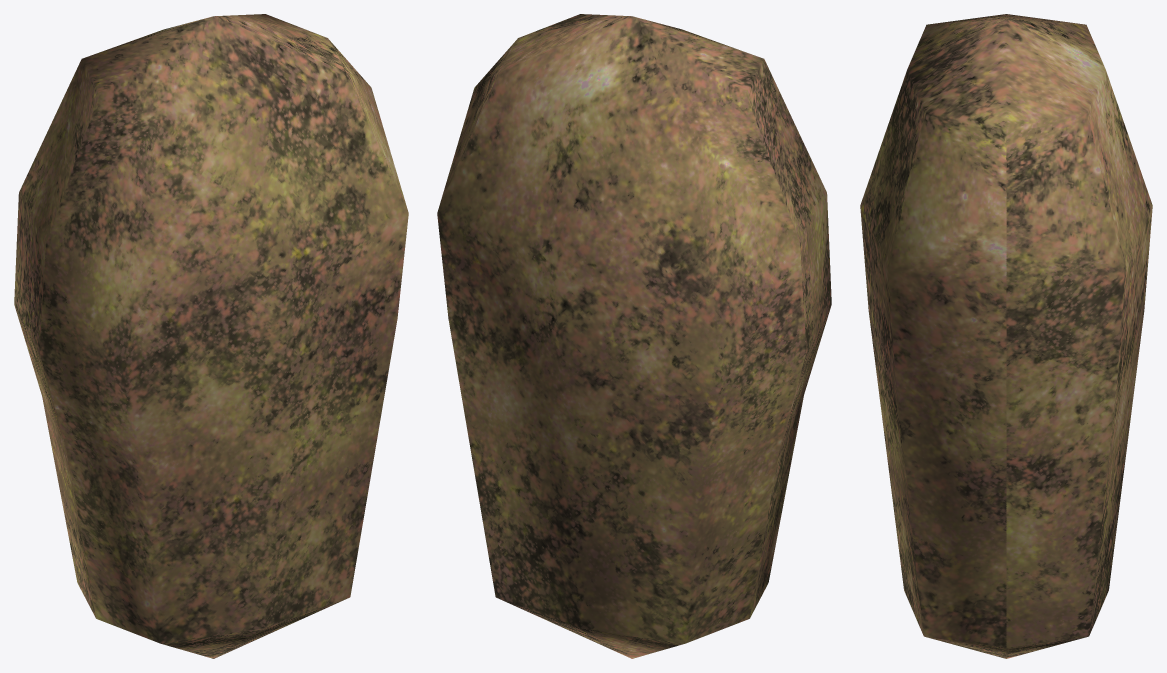
File: Rock02_MDL.fbx
3 views of the same model, side by side, from view 1: azimuth 30°, elevation 25°; view 2: azimuth 150°, elevation 25°; view 3: azimuth 270°, elevation 25° (orthographic).
Visible parts, largest first — view 1: Rock02; view 2: Rock02; view 3: Rock02.
Part boxes in pixels (<box>): Rock02: <box>14,14,408,658</box>; Rock02: <box>437,14,831,658</box>; Rock02: <box>860,14,1152,658</box>.
Size of the model in its own units: 378 by 678 by 281.
1 material, 1 textured.
